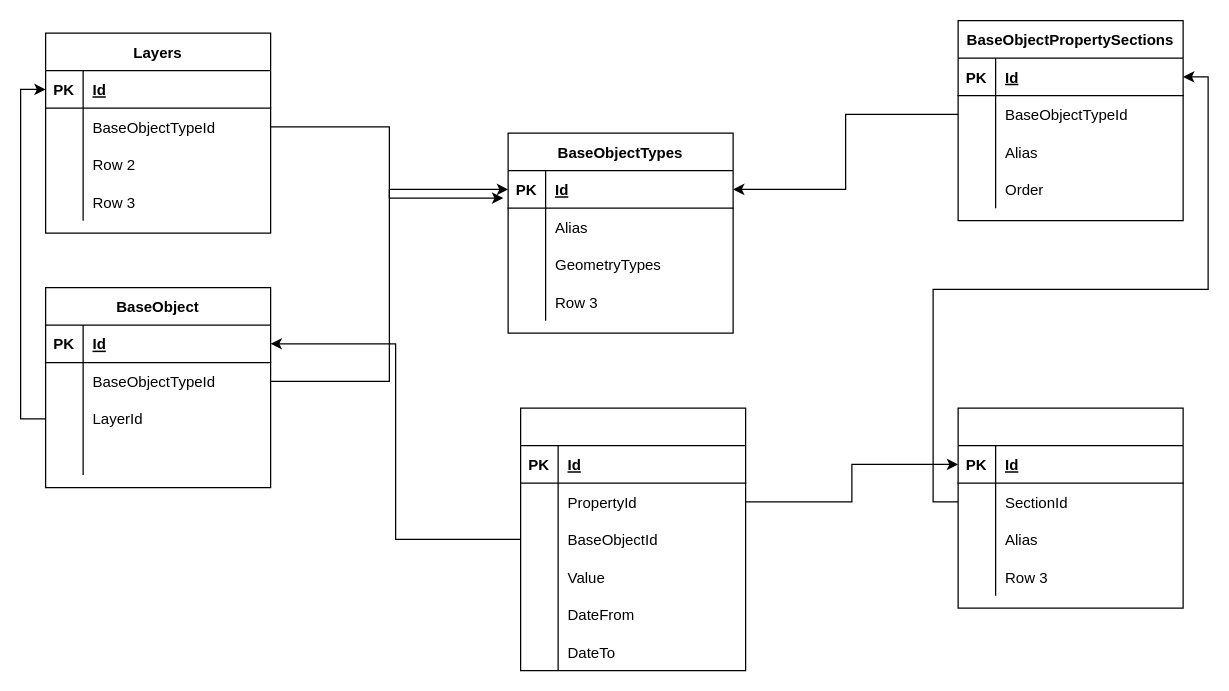
This 1229x691 diagram has some shape labels left out. The shapes that lost their labels are listed below. From the top down, each one's box as (x1, y1, x2, y2) in pixels, then its label:
(957, 407, 1183, 608): BaseObjectProperties
(519, 407, 746, 671): BaseObjectPropertyValues
